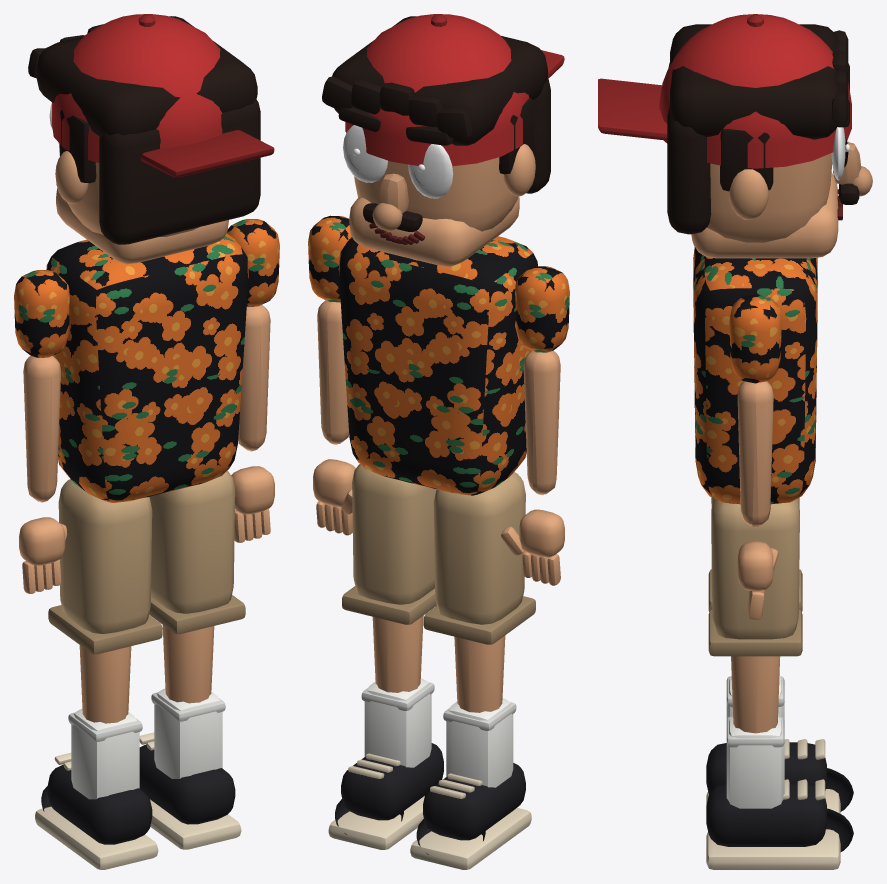
File: gambler.glb
3 views of the same model, side by side, from view 1: azimuth 30°, elevation 25°; view 2: azimuth 150°, elevation 25°; view 3: azimuth 270°, elevation 25° (orthographic).
Visible parts, largest first — view 1: torso, legL, legR, hair_head_hair_15, hat_head_hat_16, armL, armR, hairtop_head_hair_15, head, hat_head_hat2_17; view 2: torso, legL, legR, head, hat_head_hat_16, armL, hairtop_head_hair_15, armR, hair_head_hair_15, stache_head_hair_15, hat_head_hat2_17; view 3: legR, torso, head, hat_head_hat_16, armR, hairtop_head_hair_15, hair_head_hair_15, legL, hat_head_hat2_17.
Boxes of the visible parts, bbox=[...] form: torso: bbox=[46, 233, 248, 502]; legL: bbox=[35, 479, 162, 869]; legR: bbox=[139, 471, 245, 849]; hair_head_hair_15: bbox=[60, 99, 260, 244]; hat_head_hat_16: bbox=[52, 14, 222, 162]; armL: bbox=[14, 270, 69, 593]; armR: bbox=[227, 219, 279, 542]; hairtop_head_hair_15: bbox=[28, 16, 257, 136]; head: bbox=[49, 103, 228, 264]; hat_head_hat2_17: bbox=[138, 14, 274, 177]; torso: bbox=[338, 236, 537, 495]; legL: bbox=[410, 472, 535, 869]; legR: bbox=[328, 464, 443, 849]; head: bbox=[338, 107, 535, 266]; hat_head_hat_16: bbox=[345, 14, 529, 166]; armL: bbox=[501, 266, 569, 585]; hairtop_head_hair_15: bbox=[322, 16, 547, 145]; armR: bbox=[308, 215, 355, 535]; hair_head_hair_15: bbox=[499, 78, 550, 193]; stache_head_hair_15: bbox=[363, 203, 422, 231]; hat_head_hat2_17: bbox=[431, 14, 564, 78]; legR: bbox=[706, 498, 853, 869]; torso: bbox=[693, 247, 817, 504]; head: bbox=[691, 63, 872, 258]; hat_head_hat_16: bbox=[659, 14, 851, 168]; armR: bbox=[729, 294, 781, 619]; hairtop_head_hair_15: bbox=[670, 24, 848, 139]; hair_head_hair_15: bbox=[667, 62, 773, 234]; legL: bbox=[706, 497, 853, 813]; hat_head_hat2_17: bbox=[598, 14, 763, 140].
Bounding box in the file's own units: 0.6606 × 2.03 × 0.6149.
Materials: 18 (1 with a texture image).
